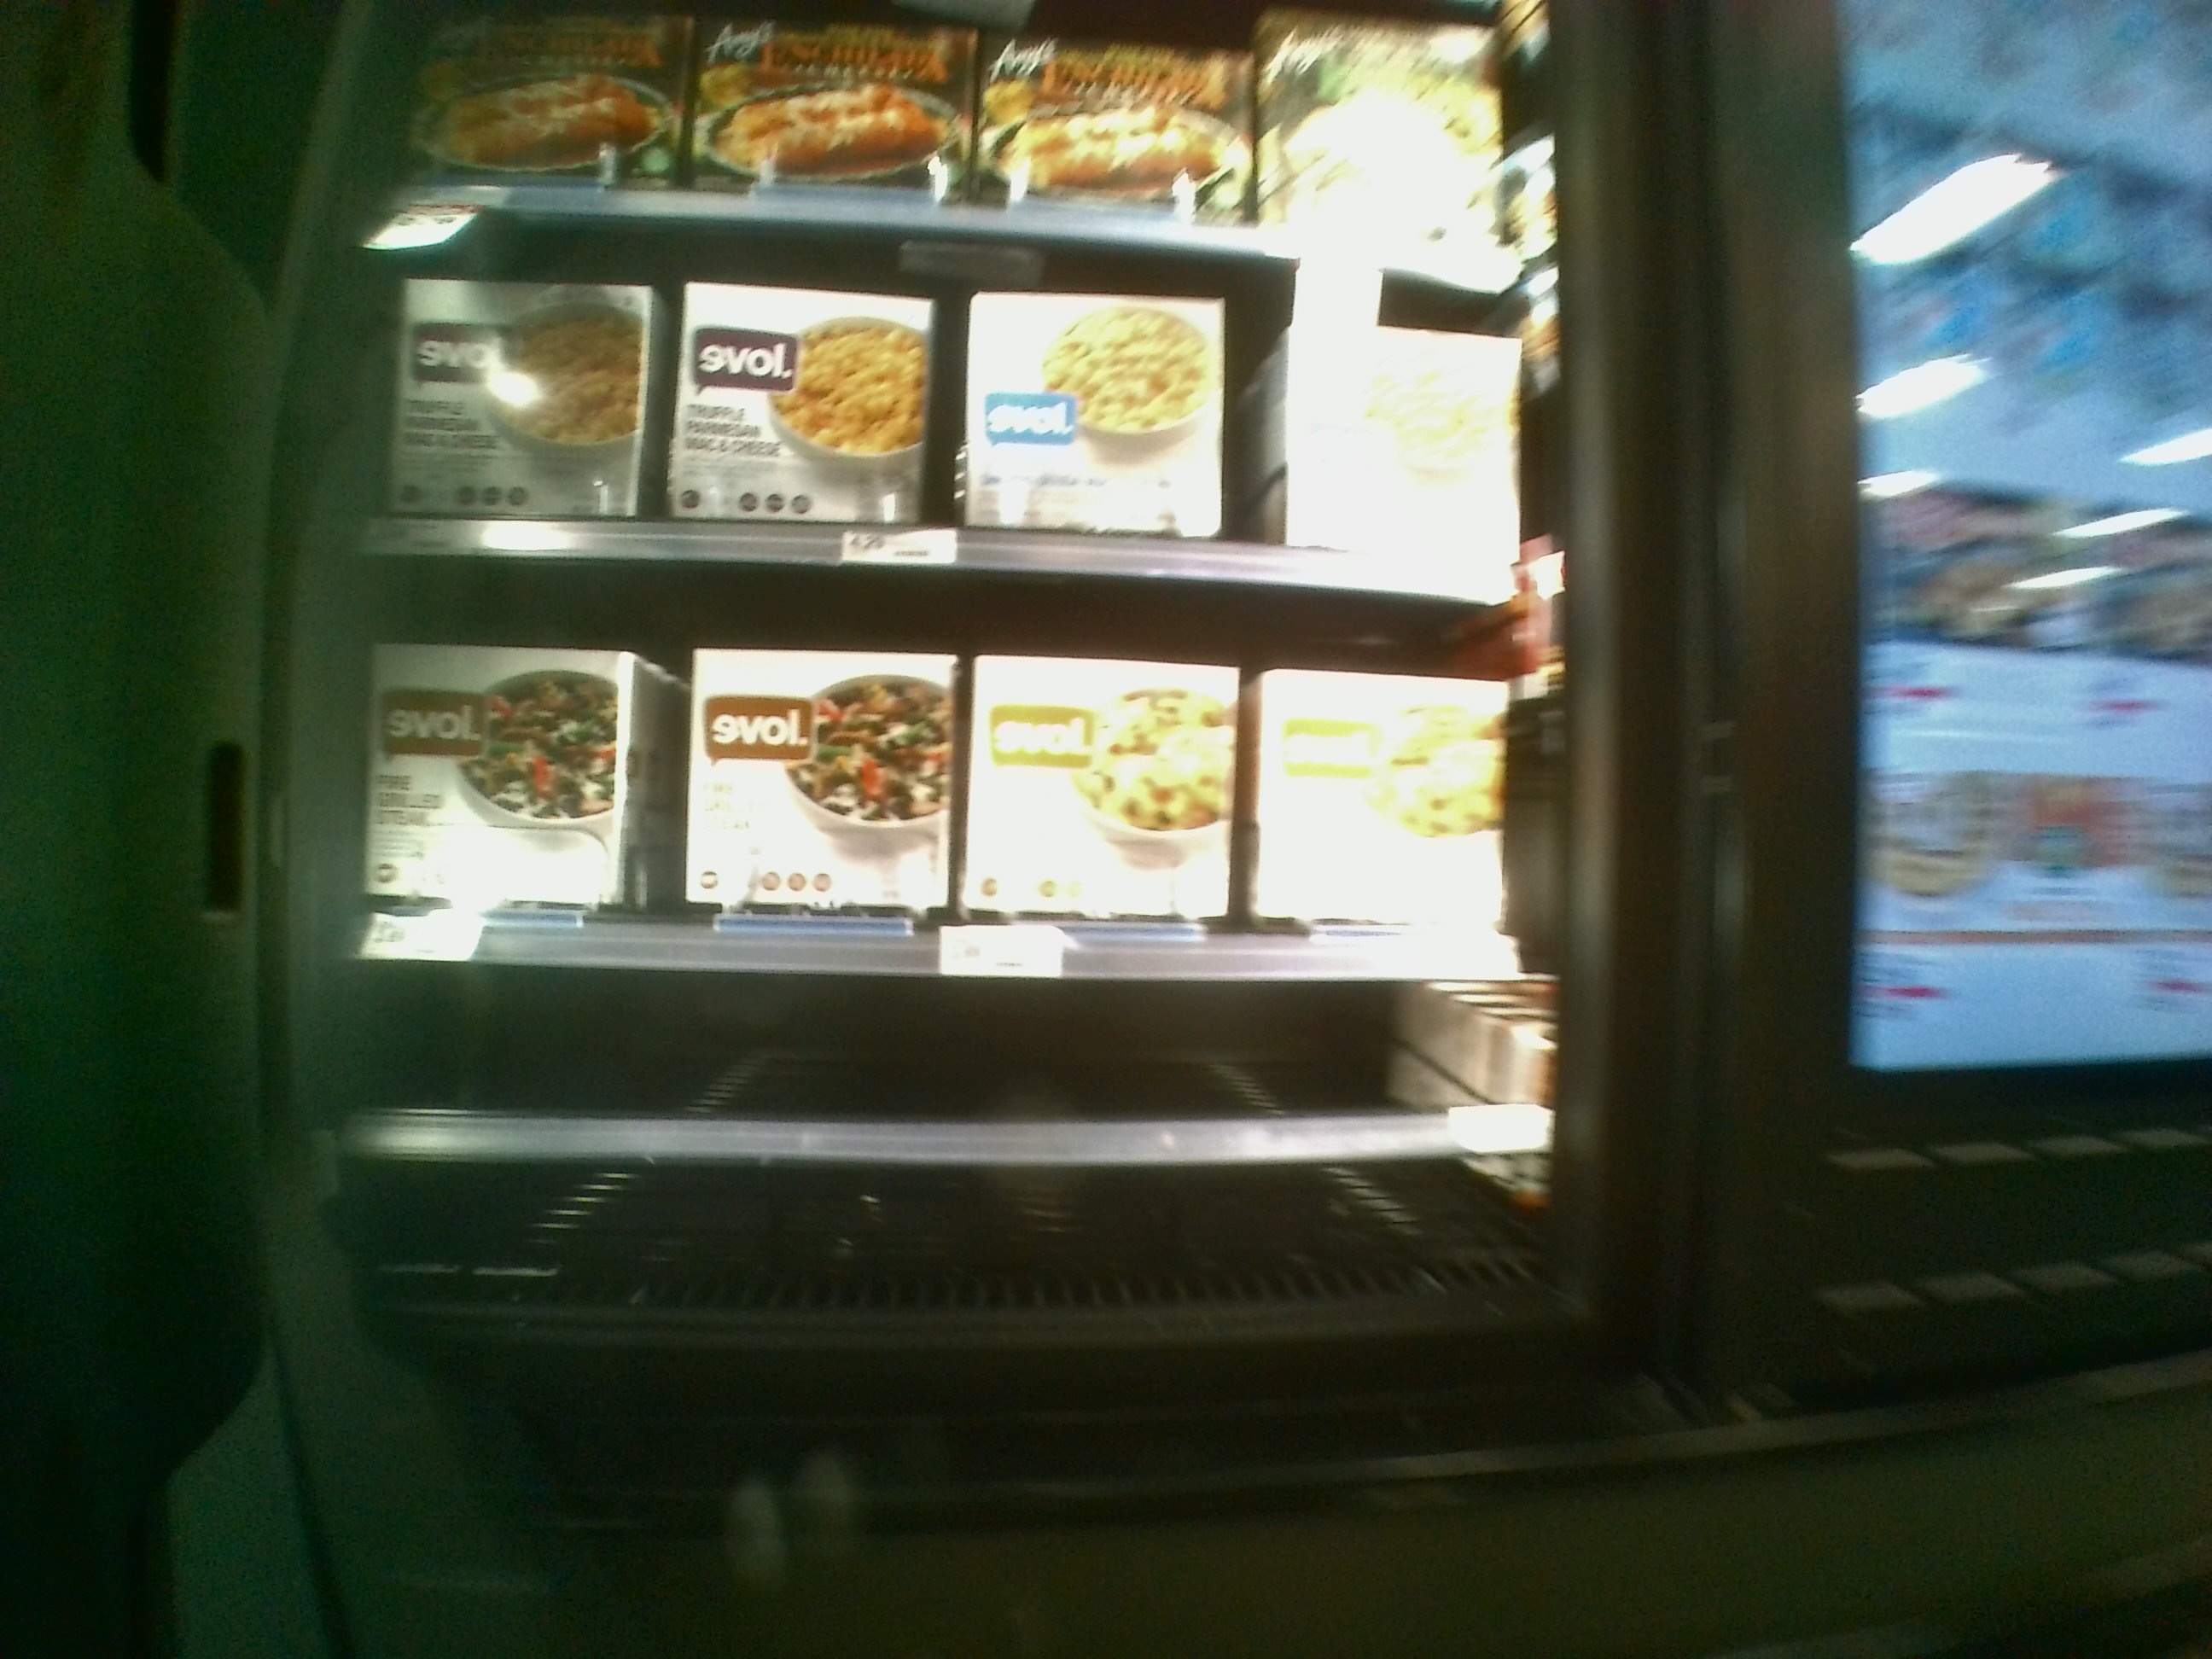shelf: (364, 552, 1540, 969), (378, 216, 1533, 591), (364, 978, 1540, 1297)
